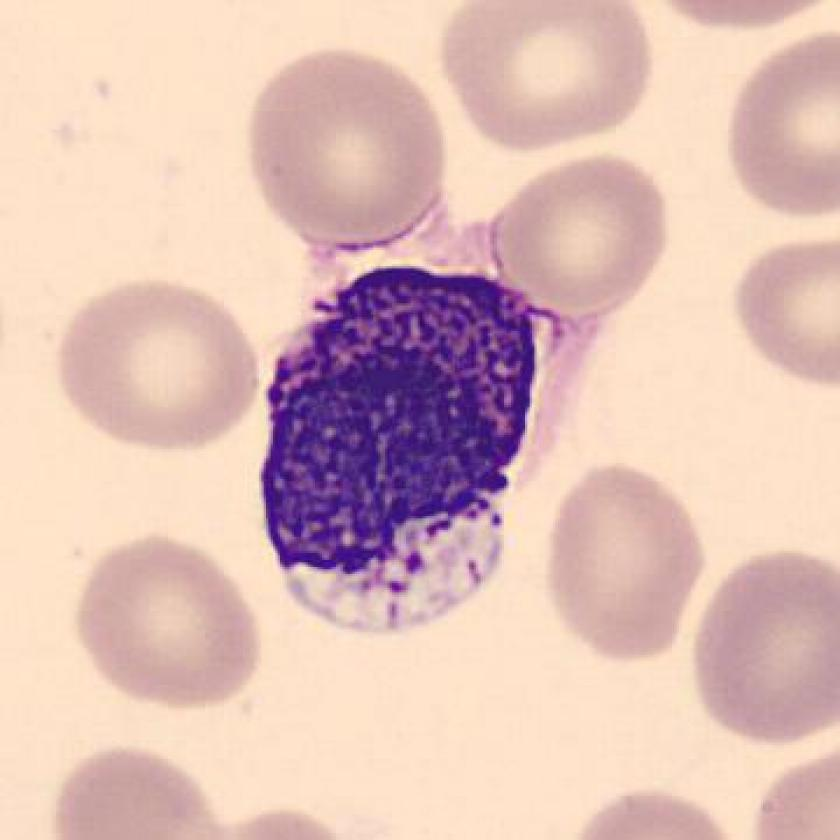basophil: (265, 265, 547, 614)
